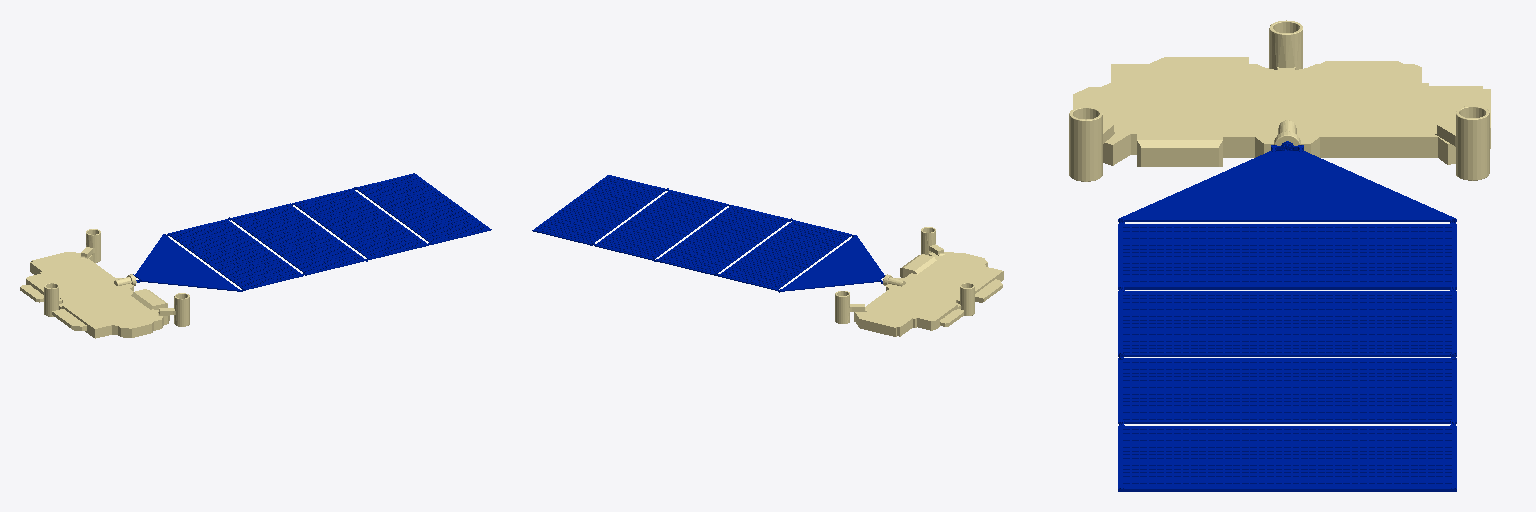
URDF robot description (starlink):
<?xml version="1.0" encoding="utf-8"?>
<!-- This URDF was automatically created by SolidWorks to URDF Exporter! Originally created by Stephen Brawner (brawner@gmail.com) 
     Commit Version: 1.6.0-4-g7f85cfe  Build Version: 1.6.7995.38578
     For more information, please see http://wiki.ros.org/sw_urdf_exporter -->
<robot
  name="starlink">
  <link
    name="base_star_link">
    <inertial>
      <origin
        xyz="0.064043 0.049818 0.075117"
        rpy="0 0 0" />
      <mass
        value="365.27" />
      <inertia
        ixx="166.05"
        ixy="0.9609"
        ixz="-0.9195"
        iyy="43.737"
        iyz="0.18316"
        izz="207.92" />
    </inertial>
    <visual>
      <origin
        xyz="0 0 0"
        rpy="0 0 0" />
      <geometry>
        <mesh
          filename="../meshes/base_star_link.STL" />
      </geometry>
      <material
        name="starlink_base_star_link_material">
        <color
          rgba="0.937255 0.894118 0.690196 1" />
        <texture
          filename="../textures/1.png" />
      </material>
    </visual>
    <collision>
      <origin
        xyz="0 0 0"
        rpy="0 0 0" />
      <geometry>
        <mesh
          filename="../meshes/base_star_link.STL" />
      </geometry>
    </collision>
  </link>
  <link
    name="panel_Link">
    <inertial>
      <origin
        xyz="0.18387 4.5116E-05 0.0089121"
        rpy="0 0 0" />
      <mass
        value="146.07" />
      <inertia
        ixx="45.09"
        ixy="7.5802E-12"
        ixz="-2.6455E-06"
        iyy="9.2979"
        iyz="-4.89E-13"
        izz="54.377" />
    </inertial>
    <visual>
      <origin
        xyz="0 0 0"
        rpy="0 0 0" />
      <geometry>
        <mesh
          filename="../meshes/panel_Link.STL" />
      </geometry>
      <material
        name="starlink_panel_Link_material">
        <color
          rgba="0 0.172549 0.694118 1" />
        <texture
          filename="../textures/5.png" />
      </material>
    </visual>
    <collision>
      <origin
        xyz="0 0 0"
        rpy="0 0 0" />
      <geometry>
        <mesh
          filename="../meshes/panel_Link.STL" />
      </geometry>
    </collision>
  </link>
  <joint
    name="panel"
    type="fixed">
    <origin
      xyz="3.1501 0.12613 0.143"
      rpy="0 0 0" />
    <parent
      link="base_star_link" />
    <child
      link="panel_Link" />
    <axis
      xyz="0 0 0" />
  </joint>
</robot>

--- Render facts (derived) ---
Views: 3 orthographic renders of the robot side by side, from view 1: azimuth 30°, elevation 25°; view 2: azimuth 150°, elevation 25°; view 3: azimuth 270°, elevation 25°.
Model starlink with 2 links and 1 joints (1 fixed), rooted at base_star_link, posed all joints at 0.
Visible links, largest first — view 1: panel_Link, base_star_link; view 2: panel_Link, base_star_link; view 3: panel_Link, base_star_link.
Boxes of the visible links, x1=… form: panel_Link: x1=133, y1=173, x2=491, y2=291; base_star_link: x1=20, y1=229, x2=189, y2=338; panel_Link: x1=532, y1=175, x2=884, y2=292; base_star_link: x1=835, y1=227, x2=1003, y2=336; panel_Link: x1=1118, y1=141, x2=1456, y2=491; base_star_link: x1=1069, y1=20, x2=1490, y2=181.
Bounding box of the posed robot: 6.16 × 2.49 × 0.4335 m (x, y, z).
Meshes: 2 distinct files referenced, 2 mesh visuals loaded (2 binary STL).
